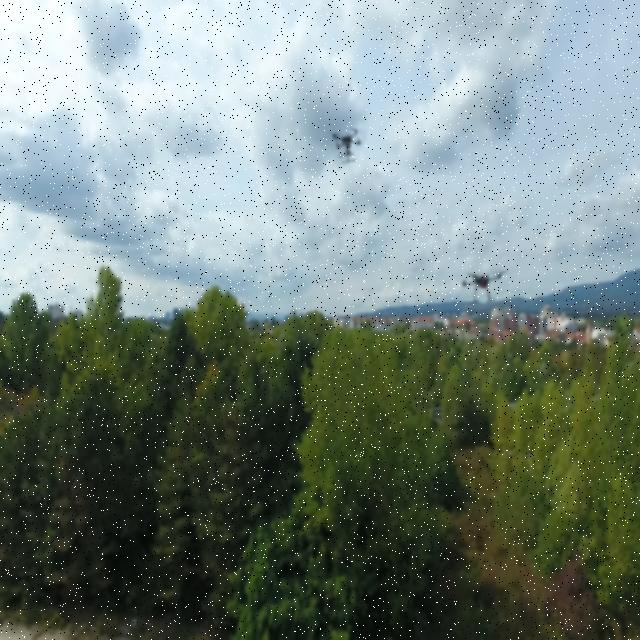UAV: (455, 264, 510, 303), (330, 118, 364, 171)
